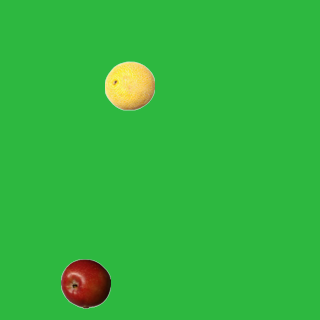Apple Braeburn: (60, 258, 110, 308)
Cantaloupe 1: (104, 60, 154, 110)
